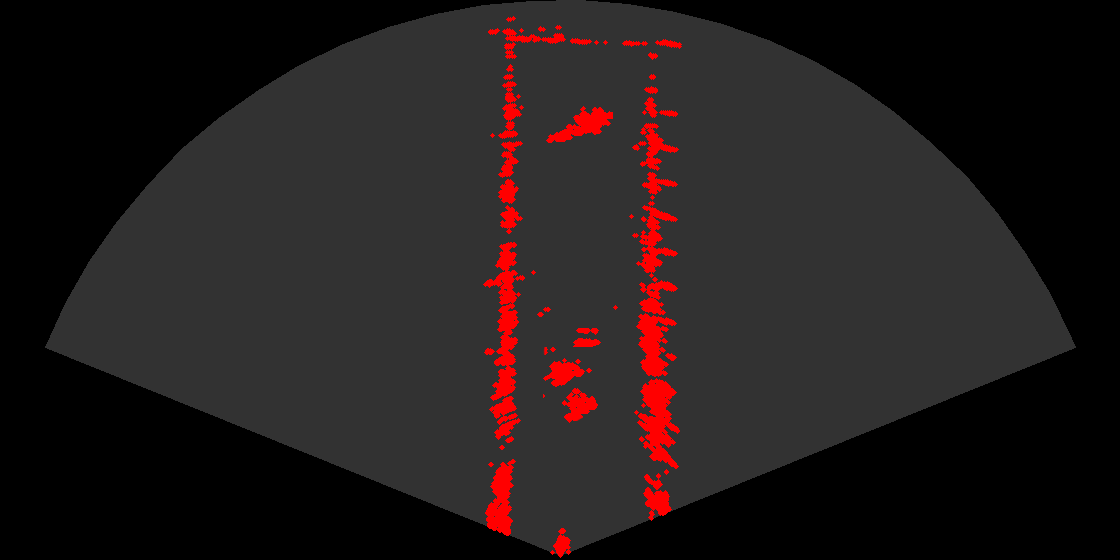ball: (552, 320, 612, 361)
cage: (543, 347, 606, 431)
frogman: (545, 100, 613, 147)
